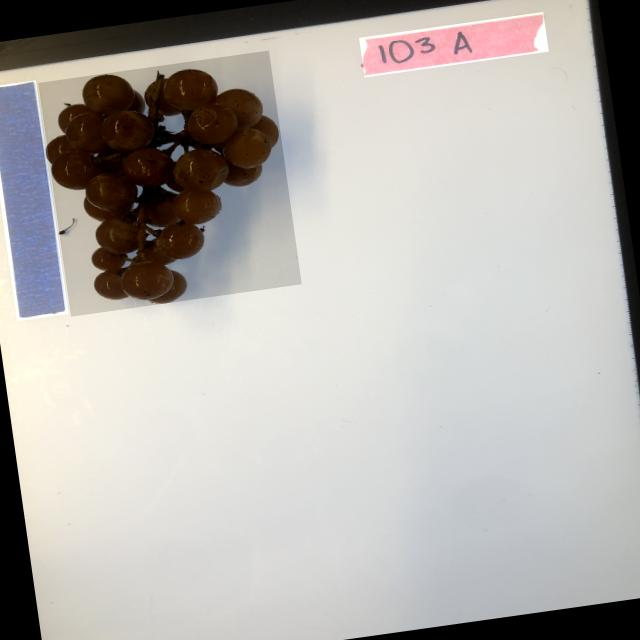grape_cluster: (38, 51, 302, 316)
index: (359, 12, 549, 77)
measure_label: (0, 80, 68, 321)
